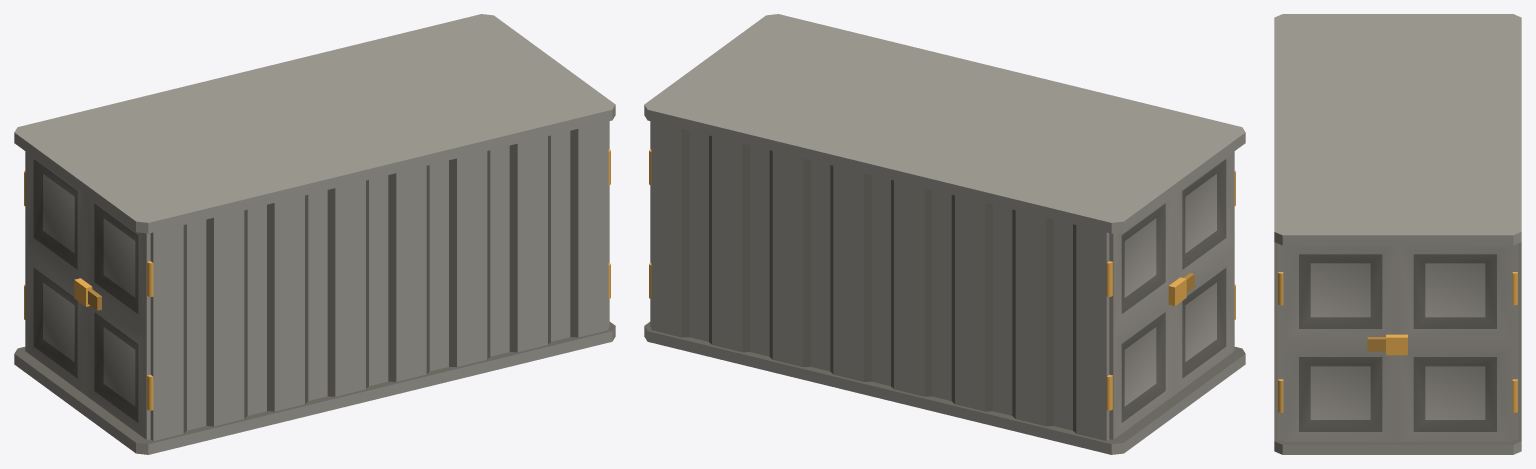
Rendered from container.FBX.
3 renders of one model, left to right at view 1: azimuth 30°, elevation 25°; view 2: azimuth 150°, elevation 25°; view 3: azimuth 270°, elevation 25°, orthographic. The views are drawn at different scales.
Visible parts, largest first — view 1: Box006; view 2: Box006; view 3: Box006.
Part boxes in pixels (x1,y1,x2,y2): Box006: [14, 14, 615, 454]; Box006: [644, 14, 1245, 454]; Box006: [1274, 14, 1521, 454].
Bounding box in the file's own units: 672 × 310 × 317.
